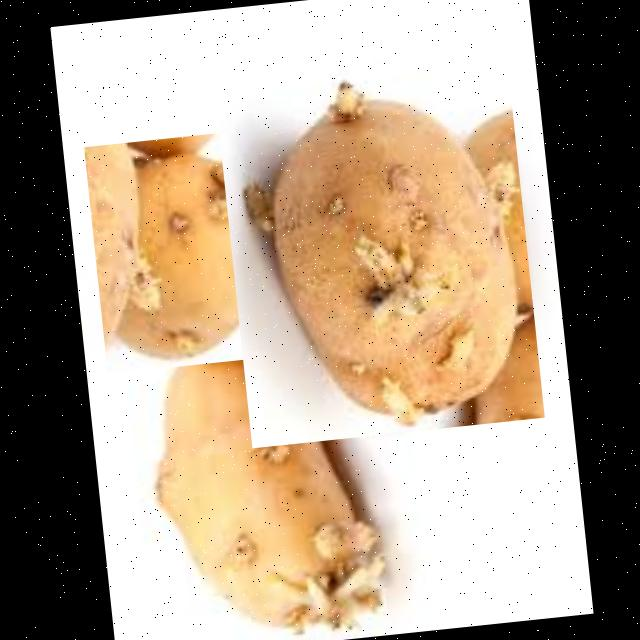Sprouted potato: (212, 51, 544, 448), (142, 323, 387, 640), (82, 126, 306, 374)
